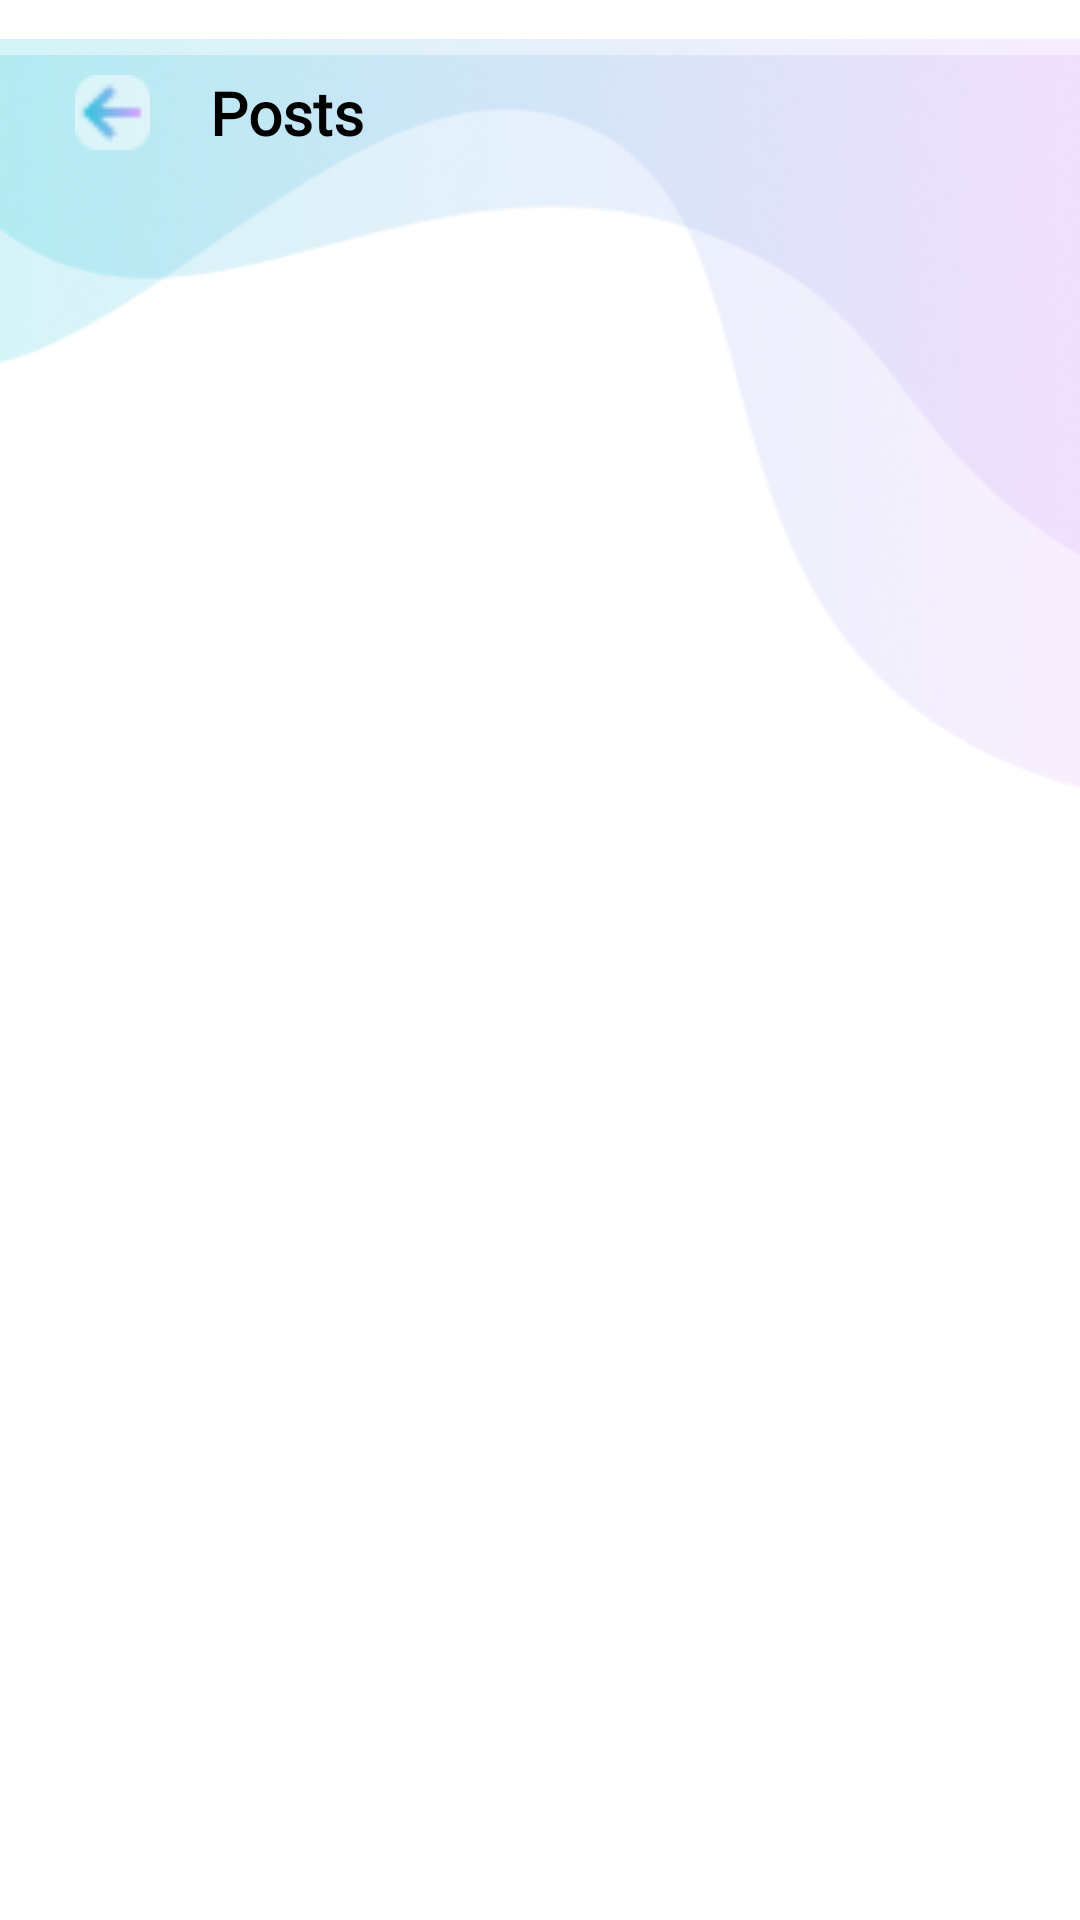

Screen size 1080px x 1920px. Icon name, then its center in pixels as (x=x, y=y):
arrow left: (x=112, y=112)
